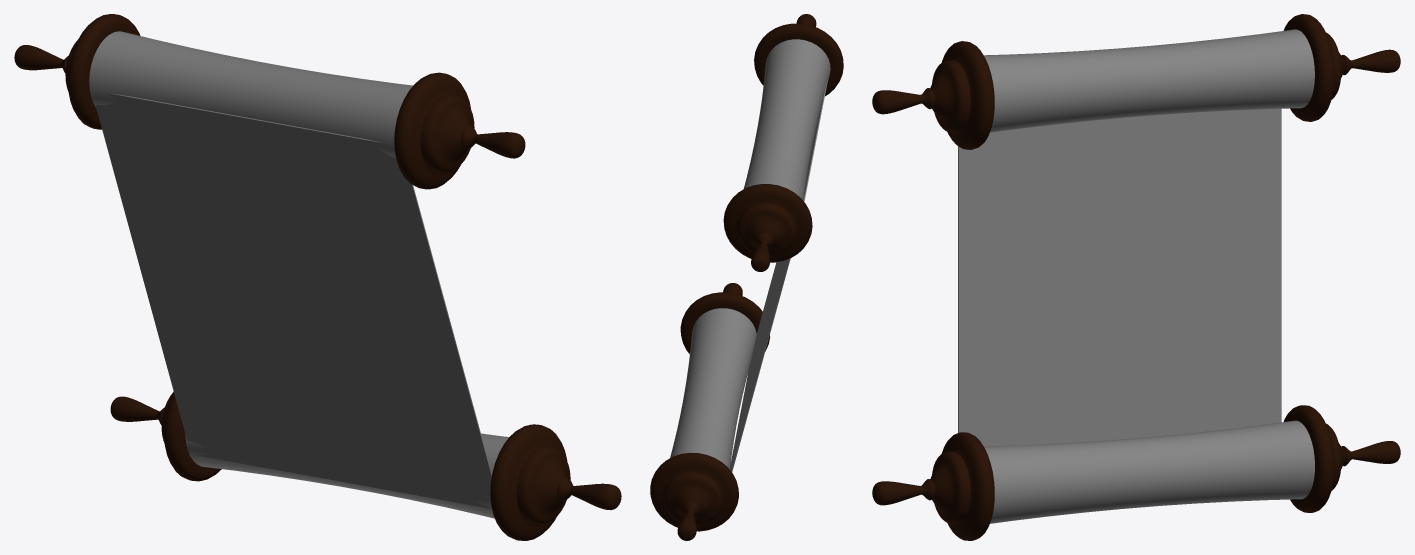
Rendered from scroll.FBX.
3 views of the same model, side by side, from view 1: azimuth 30°, elevation 25°; view 2: azimuth 150°, elevation 25°; view 3: azimuth 270°, elevation 25° (orthographic). The views are drawn at different scales.
Visible parts, largest first — view 1: Box01, Line01; view 2: Box01, Line01; view 3: Box01, Line01.
Boxes of the visible parts, x1,y1,x2,y2 form: Box01: [89, 31, 508, 518]; Line01: [14, 14, 621, 540]; Box01: [670, 39, 830, 472]; Line01: [650, 14, 843, 540]; Box01: [958, 29, 1314, 523]; Line01: [872, 14, 1400, 540].
Size of the model in its own units: 299 by 446 by 442.
